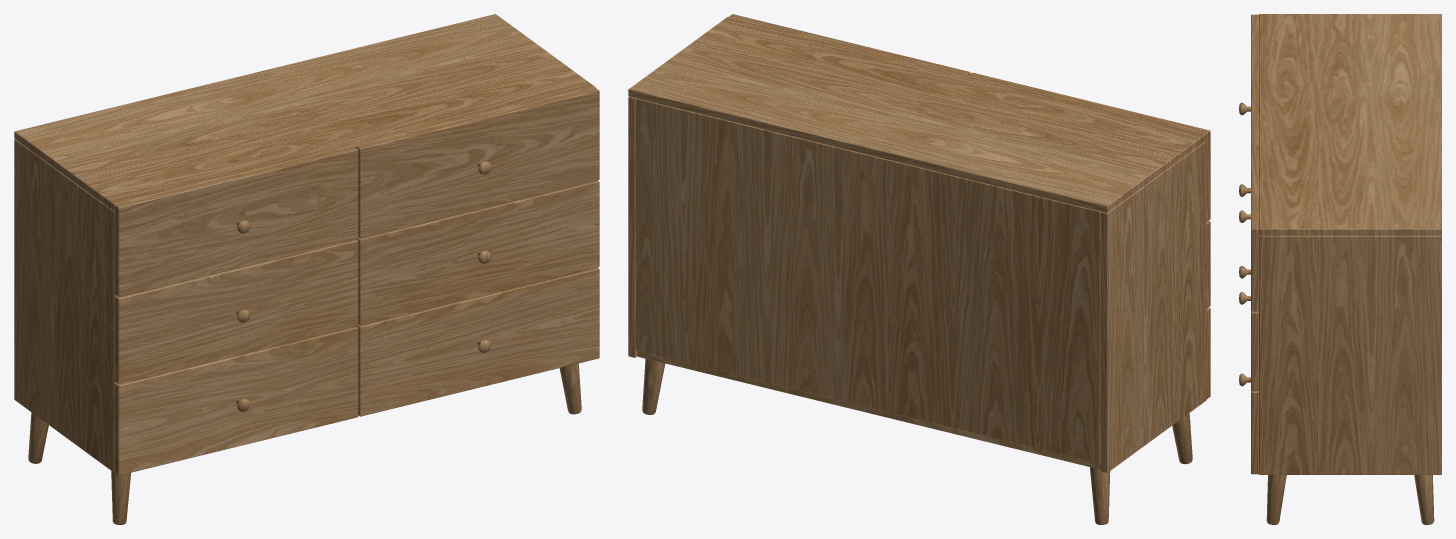
Rendered from comoda_roble_120.glb.
3 renders of one model, left to right at view 1: azimuth 30°, elevation 25°; view 2: azimuth 150°, elevation 25°; view 3: azimuth 270°, elevation 25°, orthographic. The views are drawn at different scales.
Visible parts, largest first — view 1: comoda_roble_120; view 2: comoda_roble_120; view 3: comoda_roble_120.
Boxes of the visible parts, box(x1,y1,x2,y2) form: comoda_roble_120: box(14, 14, 599, 524); comoda_roble_120: box(628, 14, 1210, 524); comoda_roble_120: box(1239, 14, 1441, 524).
Size of the model in its own units: 1.2 by 0.781 by 0.478.
1 material, 1 textured.
